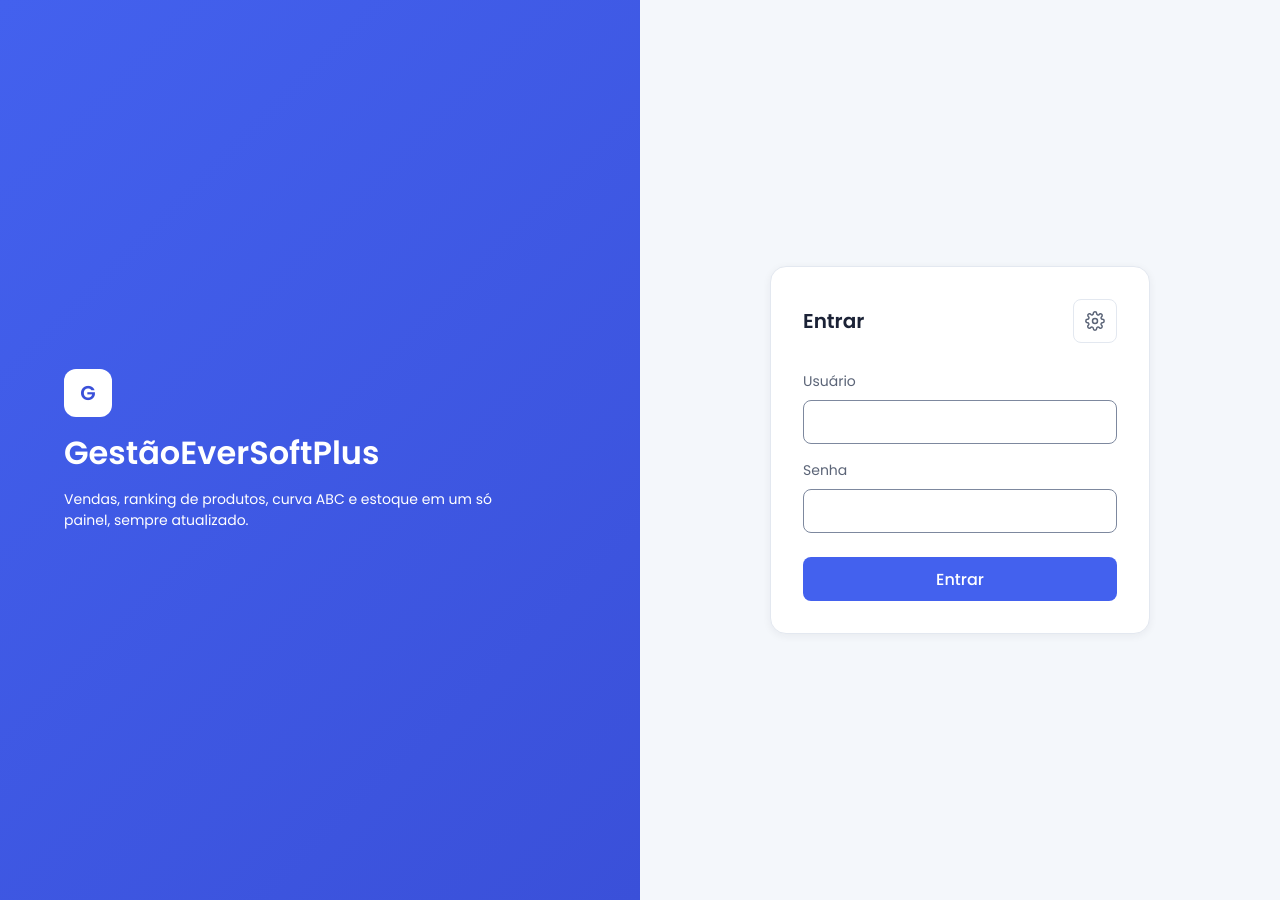
Test case: LoginPage › o campo Servidor vem preenchido com a URL atual
Click the button named "Configurações" at coordinates (1095, 321), box [1073,299,1117,343]
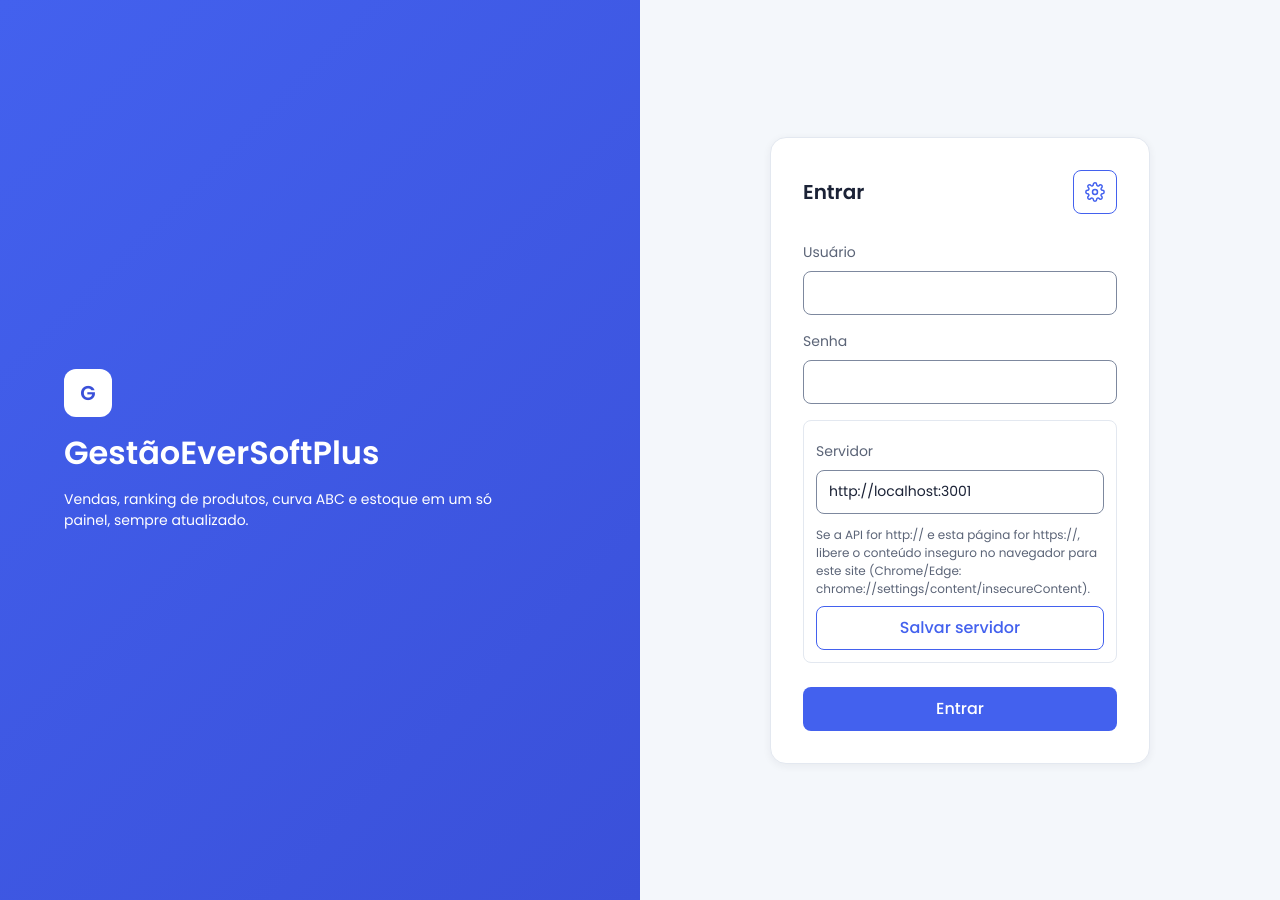
Check: the field labelled "Servidor" holds "http://localhost:3001", box [816,470,1104,514]
